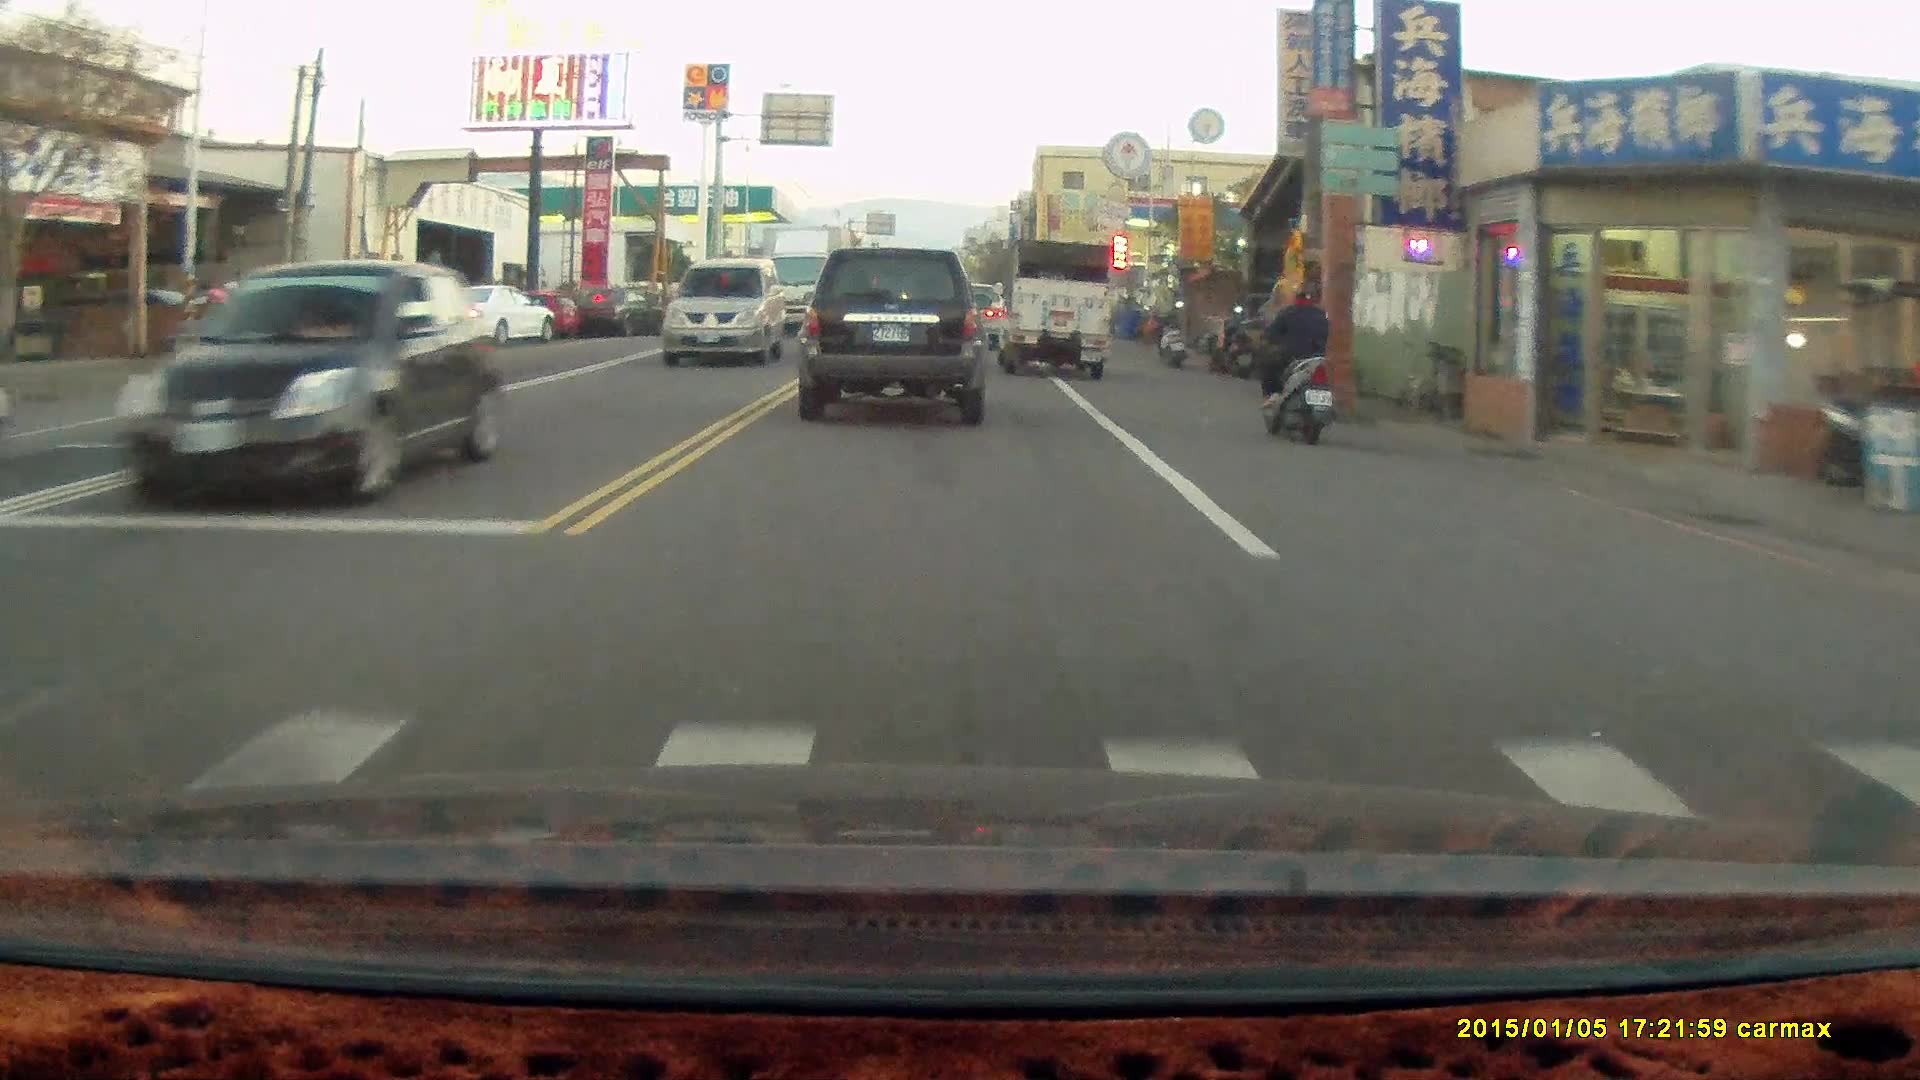rider: (1246, 278, 1339, 446)
vehicle: (104, 258, 505, 508), (797, 247, 991, 427), (994, 233, 1113, 377), (666, 260, 794, 368), (426, 283, 561, 358)
